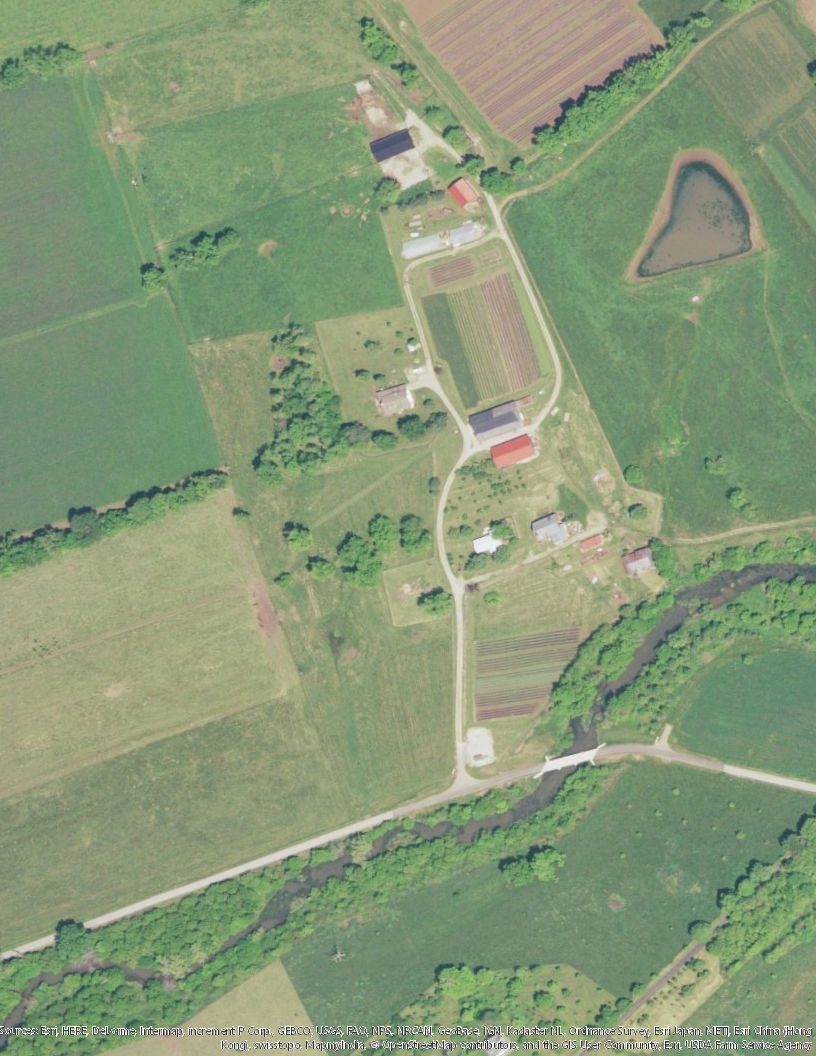cafo: (401, 219, 488, 263), (465, 397, 530, 449), (489, 432, 538, 471)
